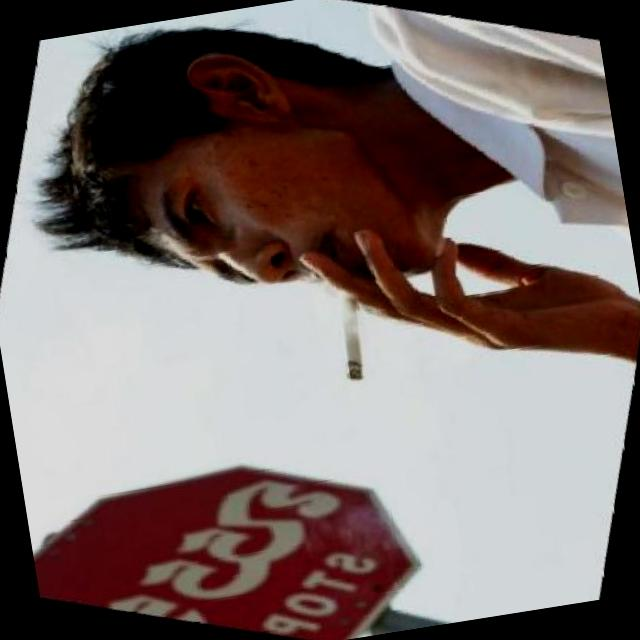cigarette: (311, 286, 391, 392)
